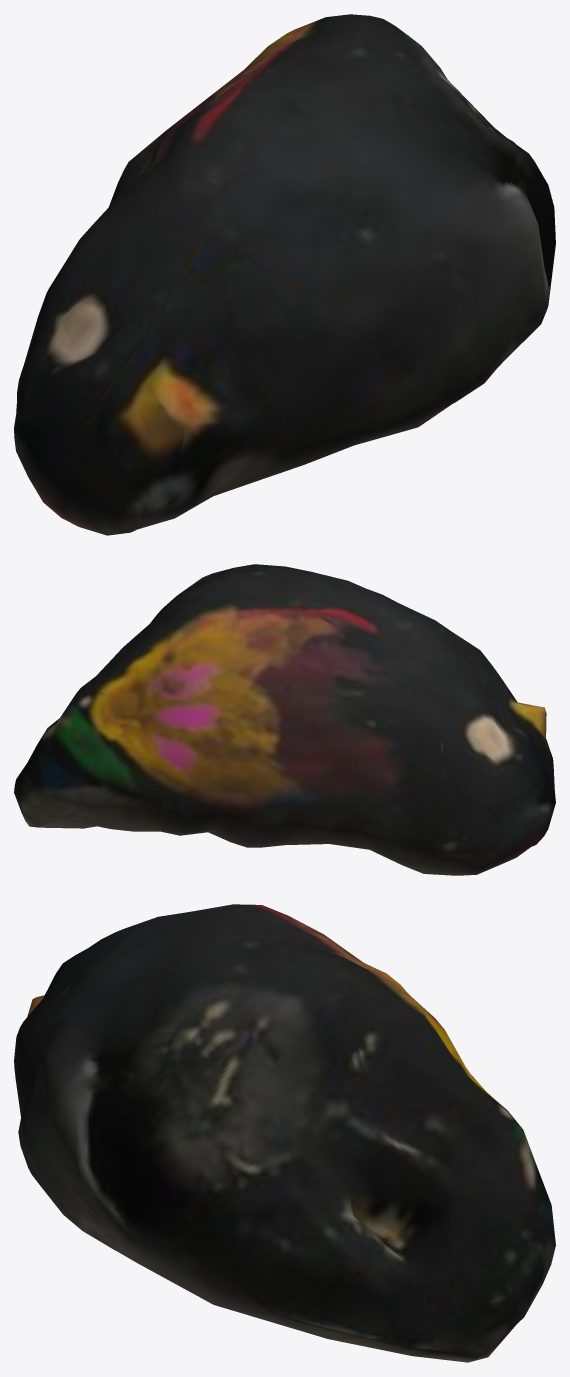
File: hall.glb
3 renders of one model, top to bottom at view 1: azimuth 30°, elevation 25°; view 2: azimuth 150°, elevation 25°; view 3: azimuth 270°, elevation 25°, orthographic. The views are drawn at different scales.
Bounding box in the file's own units: 0.3583 × 0.2158 × 0.2866.
Materials: 1 (1 with a texture image).
